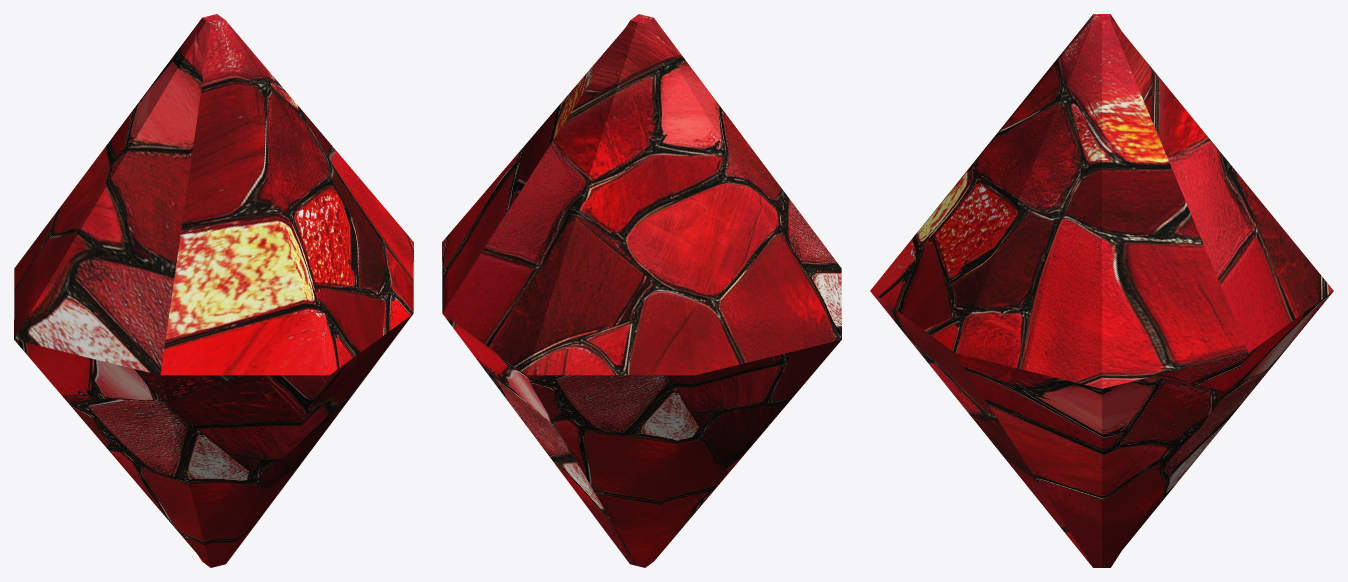
File: gemstone2Red.glb
3 renders of one model, left to right at view 1: azimuth 30°, elevation 25°; view 2: azimuth 150°, elevation 25°; view 3: azimuth 270°, elevation 25°, orthographic.
Parts seen in each view (by area): view 1: gemstone1; view 2: gemstone1; view 3: gemstone1.
Boxes of the visible parts, bbox=[...] form: gemstone1: bbox=[14, 14, 413, 567]; gemstone1: bbox=[442, 14, 841, 567]; gemstone1: bbox=[870, 14, 1333, 567].
Size of the model in its own units: 1 by 1.3 by 1.
1 material, 1 textured.
